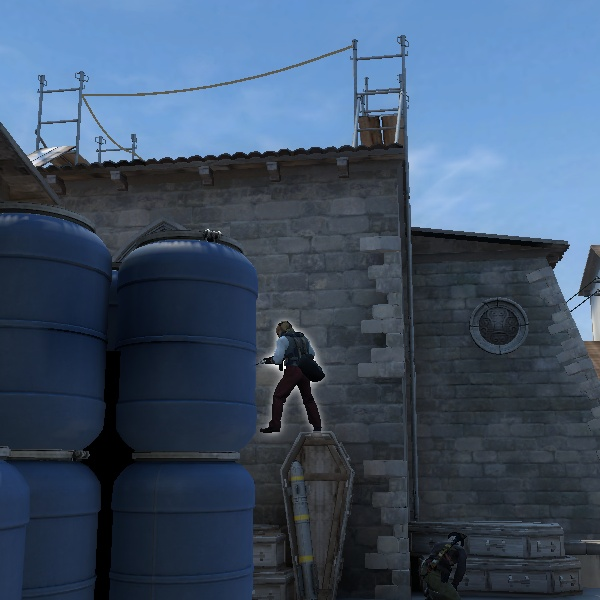ct_body: (258, 316, 326, 435)
